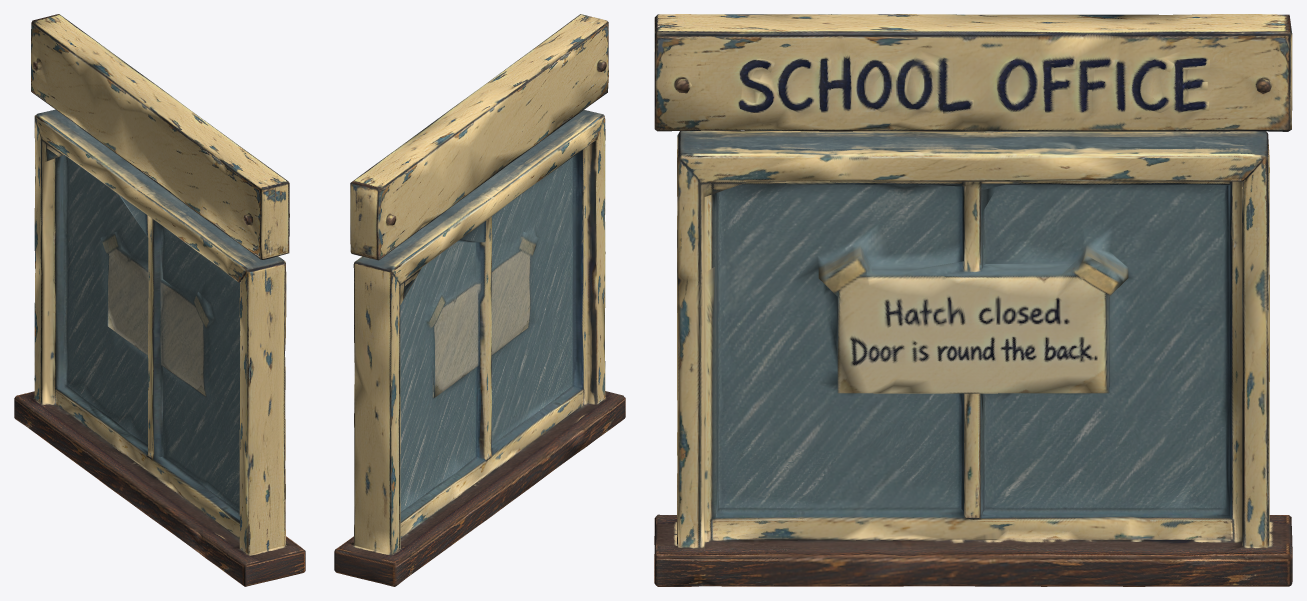
Rendered from OfficeServingHatch2.fbx.
3 views of the same model, side by side, from view 1: azimuth 30°, elevation 25°; view 2: azimuth 150°, elevation 25°; view 3: azimuth 270°, elevation 25° (orthographic). The views are drawn at different scales.
Parts seen in each view (by area): view 1: tripo_node_f73e1a87-e79c-4864-9f21-e27632a96979; view 2: tripo_node_f73e1a87-e79c-4864-9f21-e27632a96979; view 3: tripo_node_f73e1a87-e79c-4864-9f21-e27632a96979.
Part boxes in pixels (x1,y1,x2,y2): tripo_node_f73e1a87-e79c-4864-9f21-e27632a96979: [14, 14, 305, 586]; tripo_node_f73e1a87-e79c-4864-9f21-e27632a96979: [334, 14, 625, 586]; tripo_node_f73e1a87-e79c-4864-9f21-e27632a96979: [654, 14, 1292, 586].
Size of the model in its own units: 15.62 by 94.22 by 100.
1 material, 1 textured.
